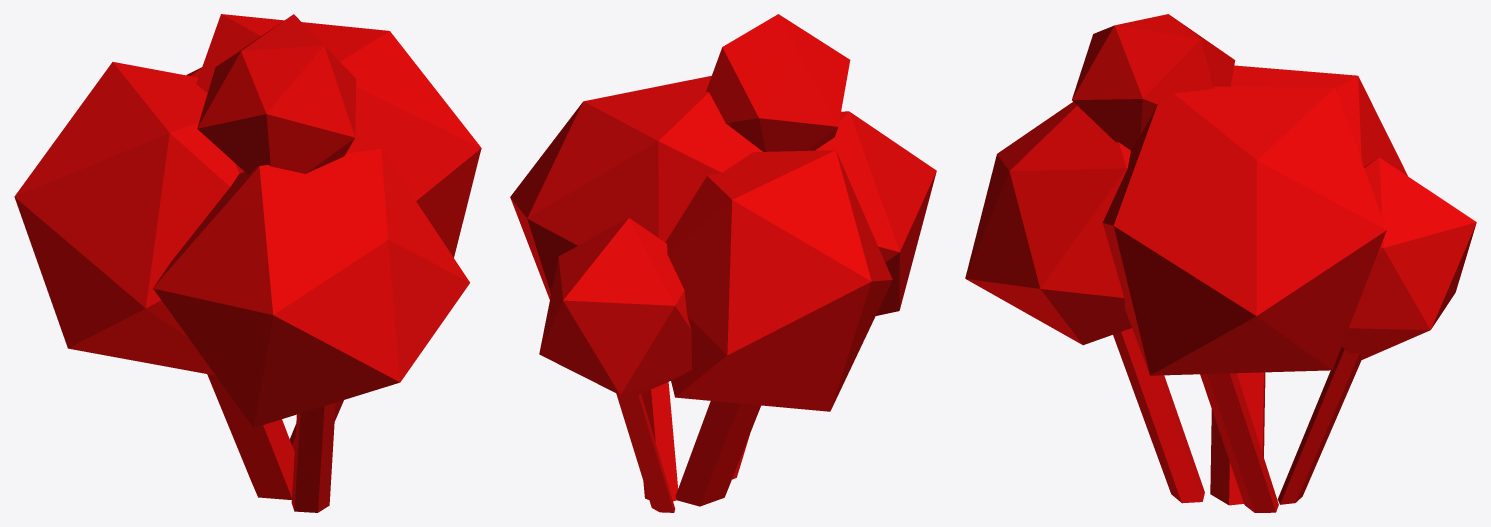
Rendered from Bush 2.fbx.
3 renders of one model, left to right at view 1: azimuth 30°, elevation 25°; view 2: azimuth 150°, elevation 25°; view 3: azimuth 270°, elevation 25°, orthographic. The views are drawn at different scales.
Visible parts, largest first — view 1: Bushes2:sphere_object1, Bushes2:sphere_object3, Bushes2:sphere_object2, Bushes2:sphere_object4, Bushes2:pCylinder2, Bushes2:pCylinder6; view 2: Bushes2:sphere_object3, Bushes2:sphere_object2, Bushes2:sphere_object5, Bushes2:sphere_object4, Bushes2:sphere_object1, Bushes2:pCylinder2, Bushes2:pCylinder5, Bushes2:pCylinder4; view 3: Bushes2:sphere_object2, Bushes2:sphere_object1, Bushes2:sphere_object5, Bushes2:sphere_object4, Bushes2:pCylinder6, Bushes2:pCylinder4, Bushes2:sphere_object3, Bushes2:pCylinder5, Bushes2:pCylinder2.
Part boxes in pixels (bbox=[...]): Bushes2:sphere_object1: bbox=[153, 149, 469, 427]; Bushes2:sphere_object3: bbox=[14, 62, 239, 375]; Bushes2:sphere_object2: bbox=[196, 14, 481, 257]; Bushes2:sphere_object4: bbox=[197, 14, 356, 174]; Bushes2:pCylinder2: bbox=[207, 374, 294, 499]; Bushes2:pCylinder6: bbox=[291, 402, 335, 512]; Bushes2:sphere_object3: bbox=[665, 150, 892, 411]; Bushes2:sphere_object2: bbox=[510, 76, 762, 299]; Bushes2:sphere_object5: bbox=[539, 218, 692, 399]; Bushes2:sphere_object4: bbox=[706, 14, 850, 151]; Bushes2:sphere_object1: bbox=[815, 111, 936, 315]; Bushes2:pCylinder2: bbox=[675, 401, 760, 506]; Bushes2:pCylinder5: bbox=[616, 393, 675, 512]; Bushes2:pCylinder4: bbox=[641, 382, 678, 501]; Bushes2:sphere_object2: bbox=[1102, 86, 1386, 375]; Bushes2:sphere_object1: bbox=[965, 102, 1131, 345]; Bushes2:sphere_object5: bbox=[1341, 157, 1476, 359]; Bushes2:sphere_object4: bbox=[1072, 14, 1235, 150]; Bushes2:pCylinder6: bbox=[1113, 328, 1204, 503]; Bushes2:pCylinder4: bbox=[1200, 373, 1278, 512]; Bushes2:sphere_object3: bbox=[1231, 65, 1407, 175]; Bushes2:pCylinder5: bbox=[1277, 347, 1361, 504]; Bushes2:pCylinder2: bbox=[1210, 372, 1265, 505].
Size of the model in its own units: 7.25 by 8 by 8.04.
